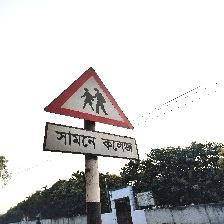College-in-front: (38, 61, 159, 156)
